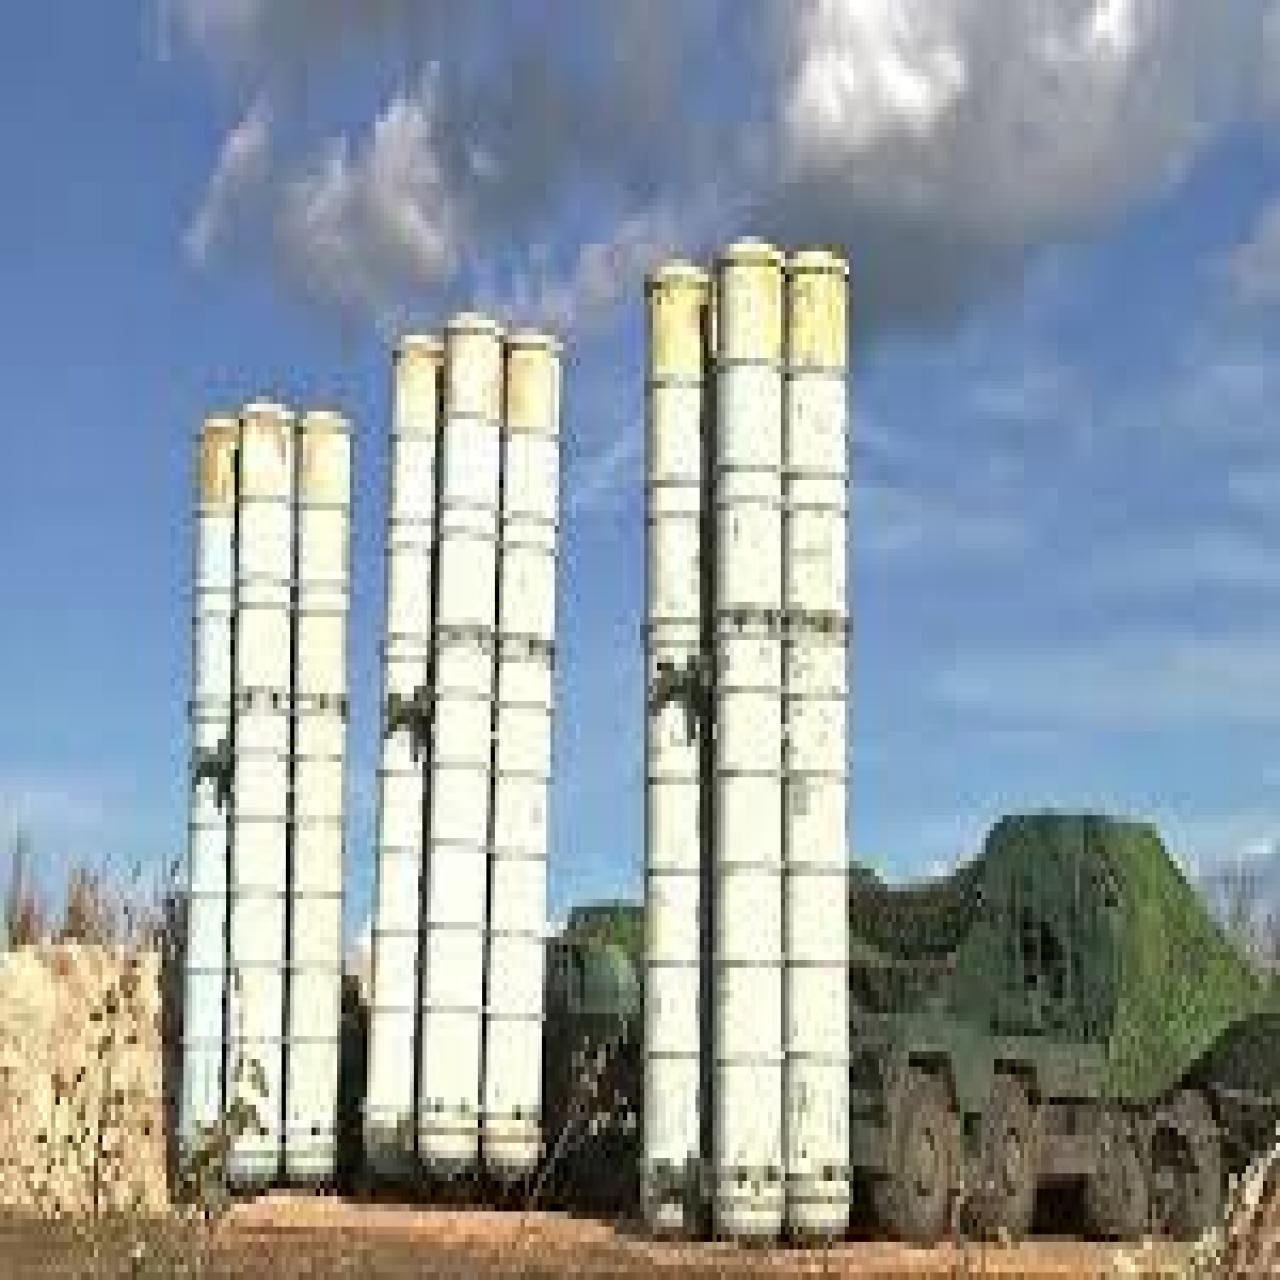MIL_Veh: (642, 241, 1275, 1237), (370, 313, 640, 1192), (196, 401, 353, 1185)
